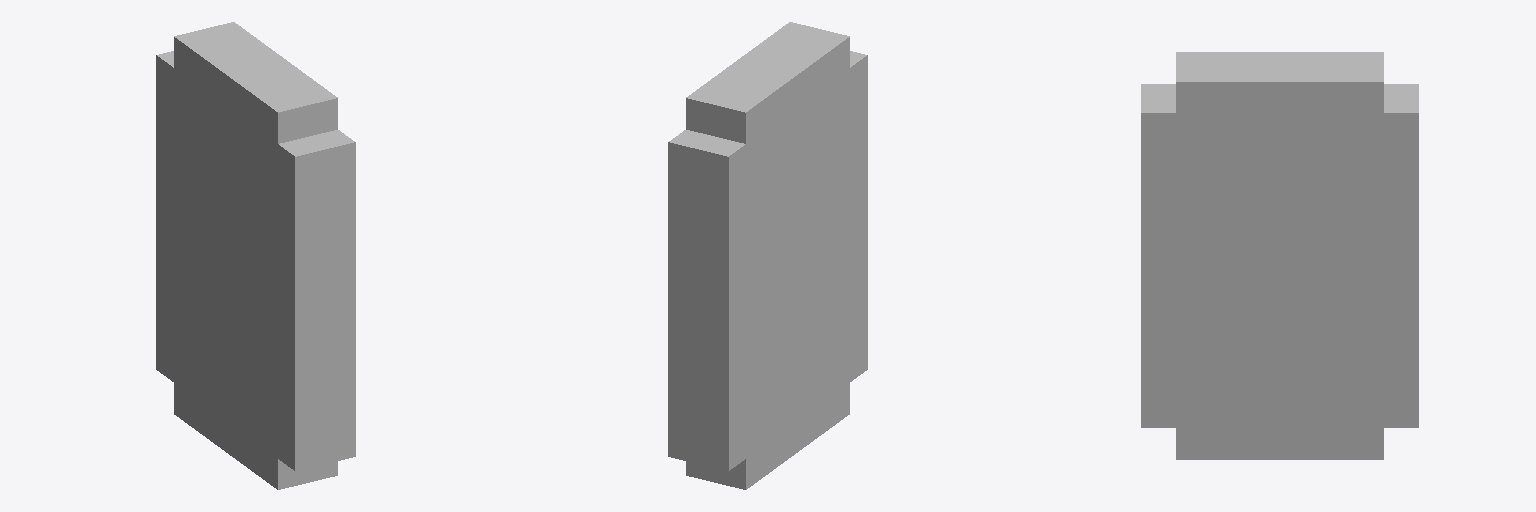
File: key.obj
3 renders of one model, left to right at view 1: azimuth 30°, elevation 25°; view 2: azimuth 150°, elevation 25°; view 3: azimuth 270°, elevation 25°, orthographic.
Parts seen in each view (by area): view 1: object 1; view 2: object 1; view 3: object 1.
Boxes of the visible parts, box(x1,y1,x2,y2) form: object 1: box(156, 22, 355, 489); object 1: box(668, 22, 867, 489); object 1: box(1141, 52, 1418, 459).
Bounding box in the file's own units: 0.2 × 1.2 × 0.8.